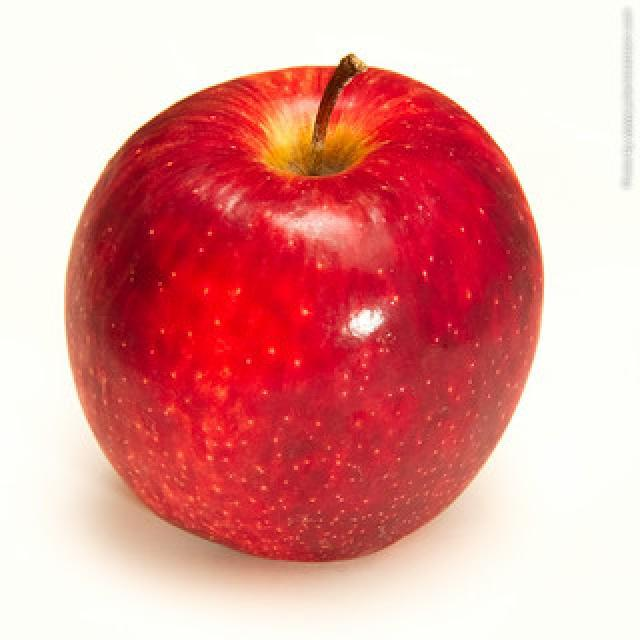Apple: (66, 51, 548, 569)
